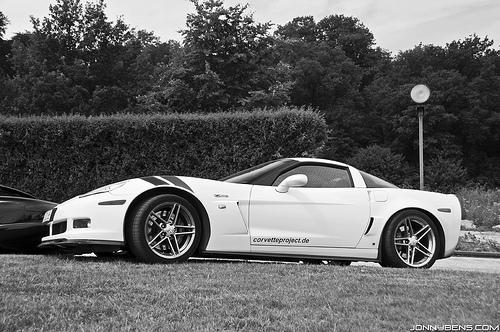car: (43, 159, 462, 269)
